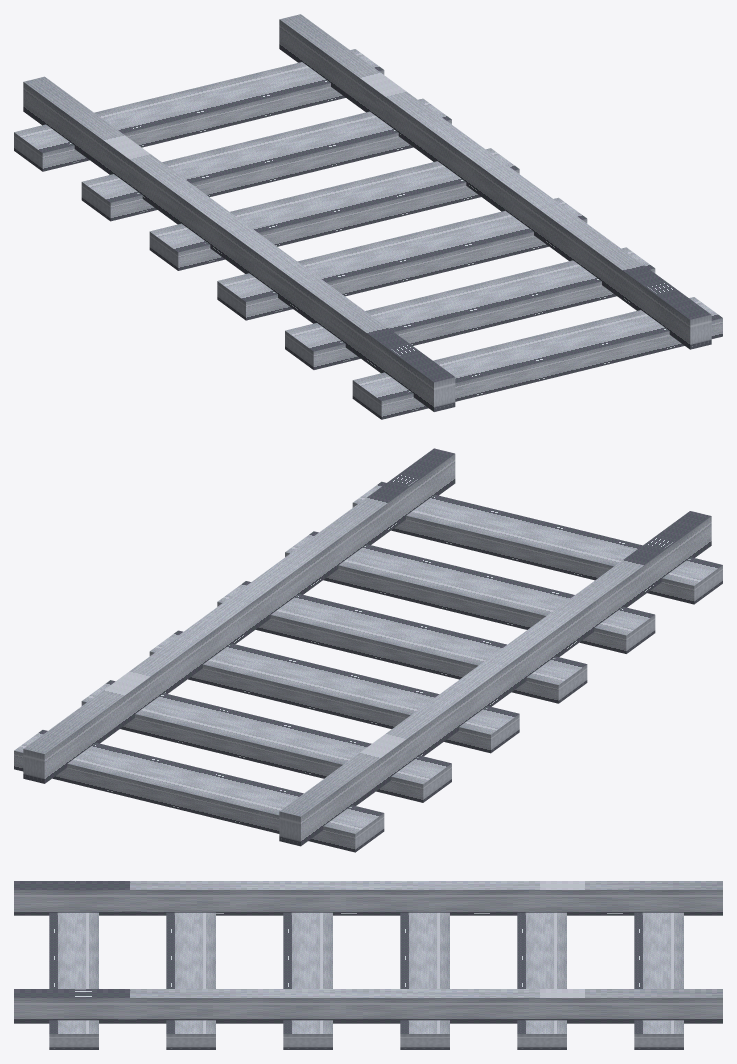
The model's file is mina_trilho.glb.
3 renders of one model, top to bottom at view 1: azimuth 30°, elevation 25°; view 2: azimuth 150°, elevation 25°; view 3: azimuth 270°, elevation 25°, orthographic. The views are drawn at different scales.
Visible parts, largest first — view 1: mina_trilho; view 2: mina_trilho; view 3: mina_trilho.
Part boxes in pixels (bbox=[...]): mina_trilho: bbox=[14, 14, 722, 419]; mina_trilho: bbox=[14, 448, 722, 852]; mina_trilho: bbox=[14, 881, 722, 1049].
Size of the model in its own units: 0.96 by 0.12 by 2.
1 material, 1 textured.
